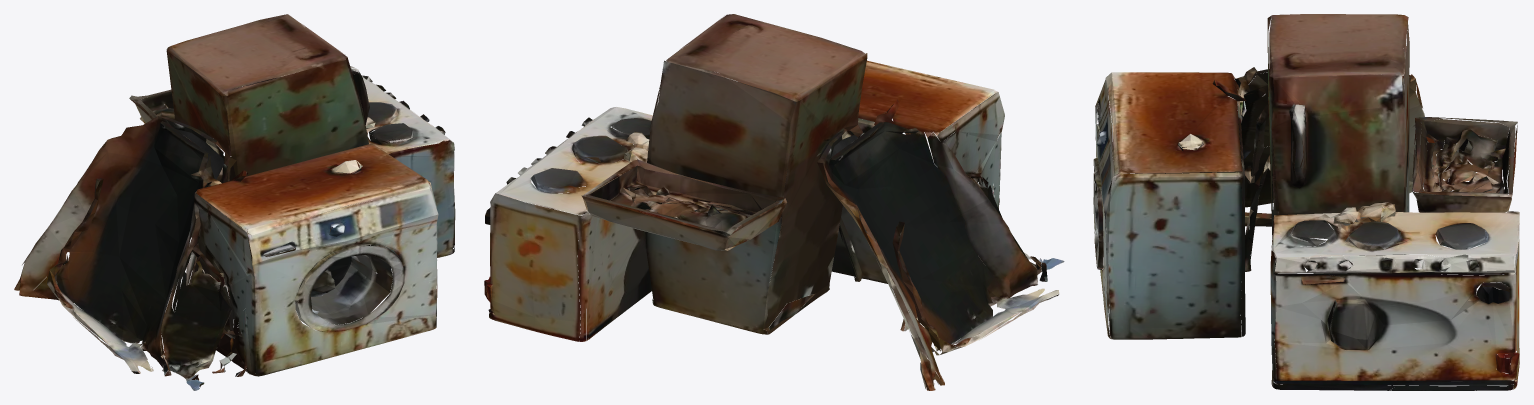
Rendered from appliance-heap.glb.
3 renders of one model, left to right at view 1: azimuth 30°, elevation 25°; view 2: azimuth 150°, elevation 25°; view 3: azimuth 270°, elevation 25°, orthographic. The views are drawn at different scales.
Visible parts, largest first — view 1: tmpynx1f1sb.ply; view 2: tmpynx1f1sb.ply; view 3: tmpynx1f1sb.ply.
Part boxes in pixels (x1,y1,x2,y2): tmpynx1f1sb.ply: [14, 14, 455, 390]; tmpynx1f1sb.ply: [484, 14, 1064, 390]; tmpynx1f1sb.ply: [1093, 14, 1519, 390].
Size of the model in its own units: 3.5 by 2 by 3.
1 material, 1 textured.
